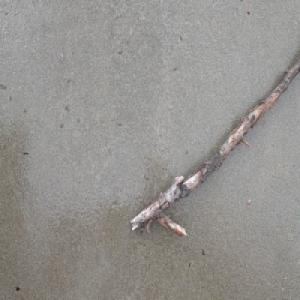Wood: (128, 56, 300, 239)
